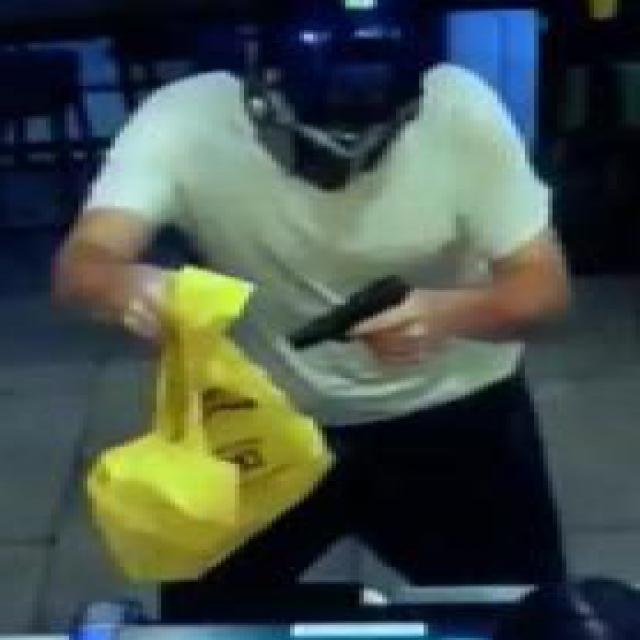Gun: (290, 268, 433, 361)
